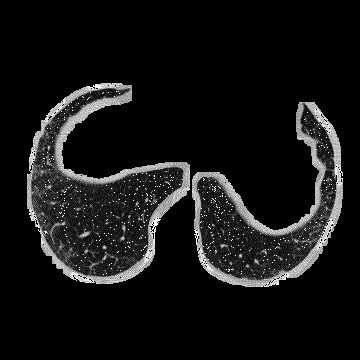PN: (43, 231, 47, 235)
